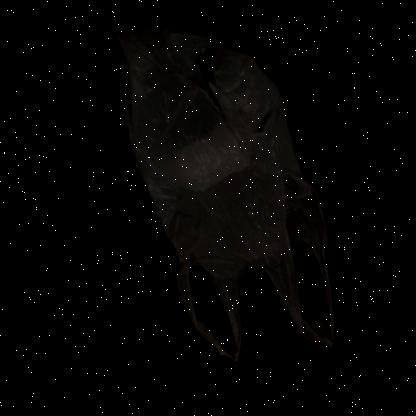Others: (116, 15, 334, 361)
